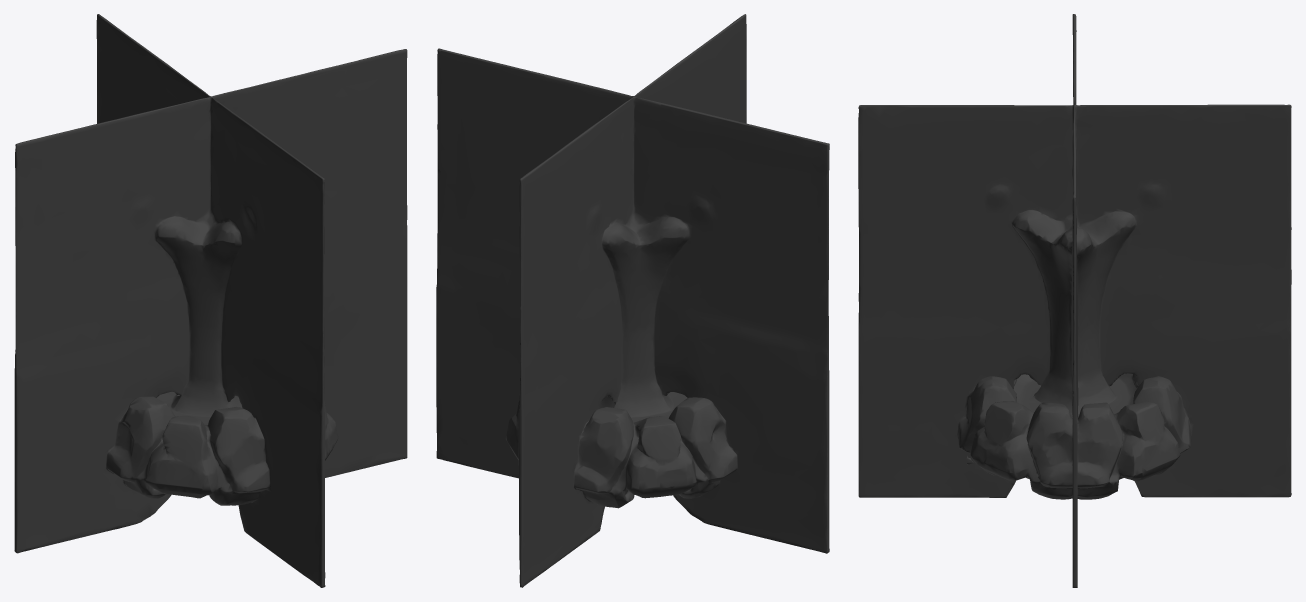
File: pr_geiser_lava.glb
3 renders of one model, left to right at view 1: azimuth 30°, elevation 25°; view 2: azimuth 150°, elevation 25°; view 3: azimuth 270°, elevation 25°, orthographic. The views are drawn at different scales.
Visible parts, largest first — view 1: geometry_0; view 2: geometry_0; view 3: geometry_0.
Boxes of the visible parts, <box> form: geometry_0: <box>14,14,407,587</box>; geometry_0: <box>436,14,829,587</box>; geometry_0: <box>858,14,1291,587</box>.
Size of the model in its own units: 0.9884 by 0.9875 by 0.9884.
Materials: 1 (1 with a texture image).
